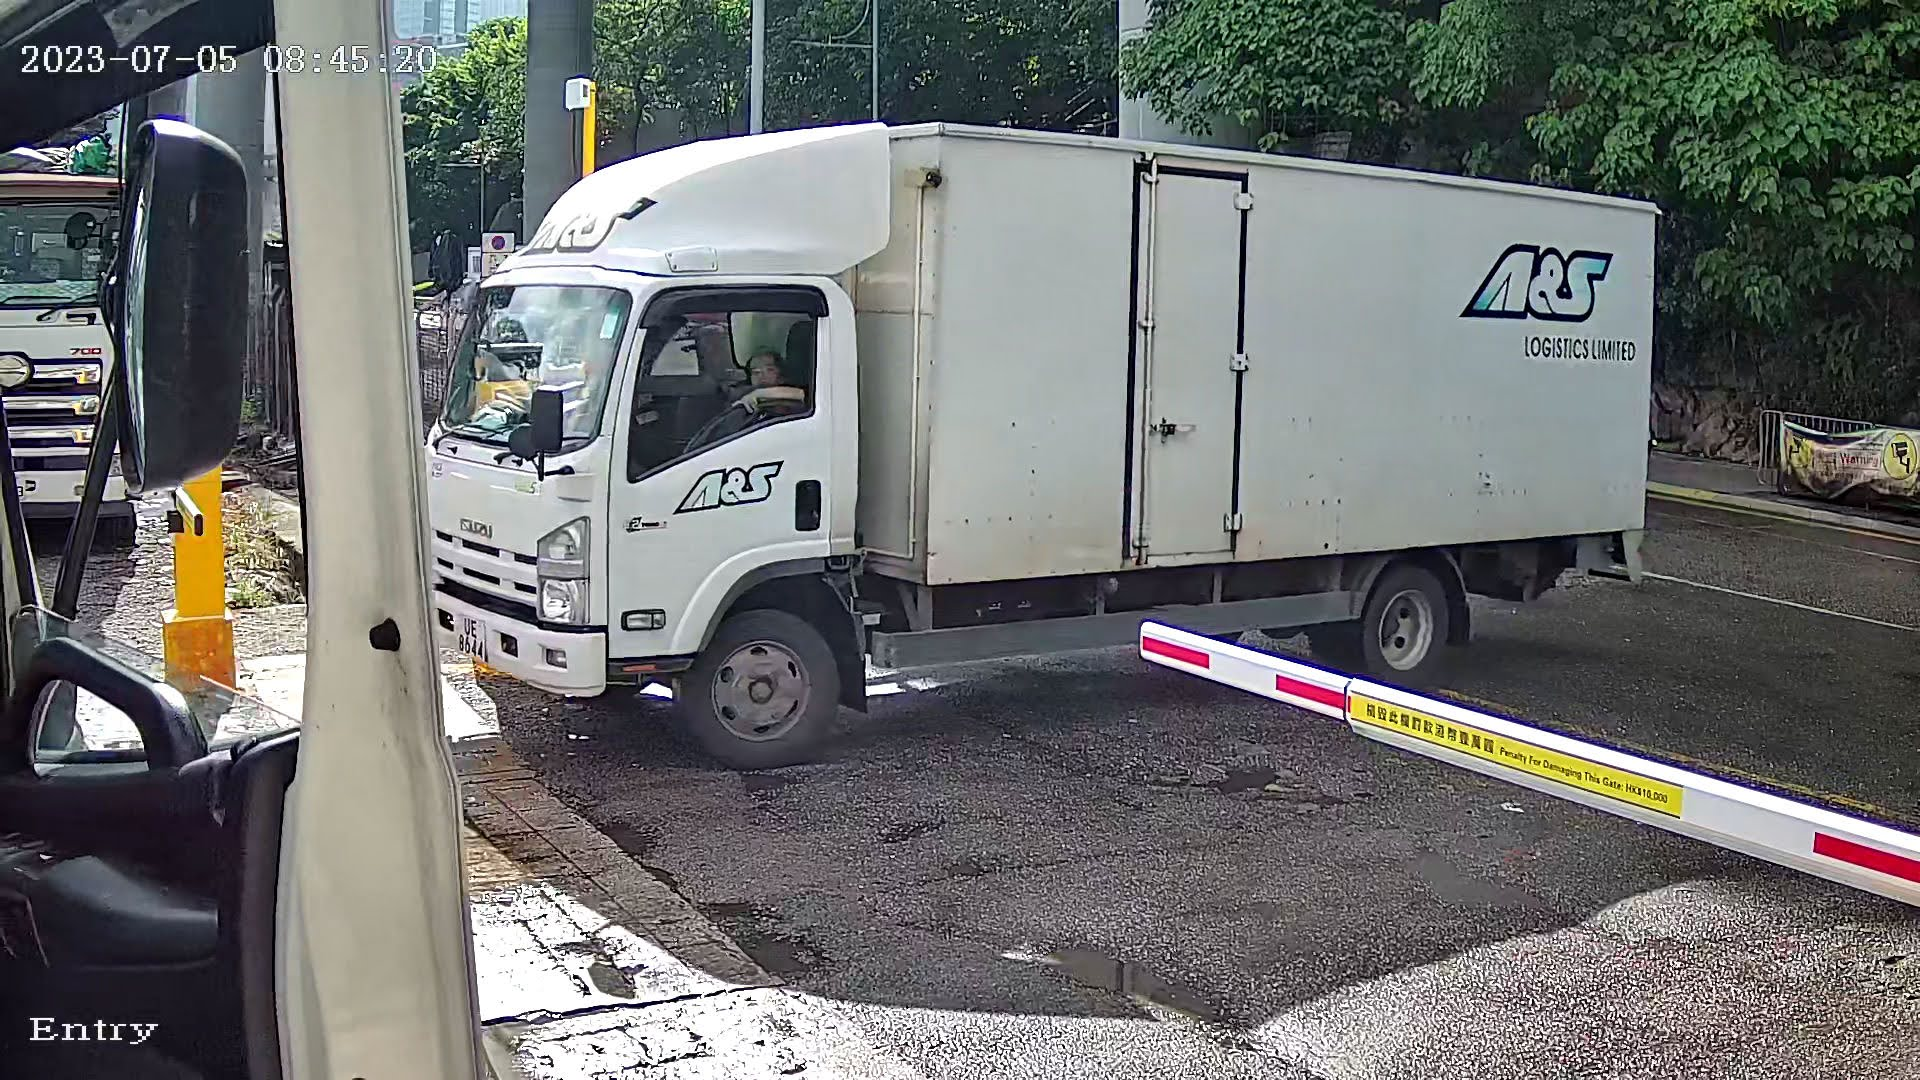truck: (375, 76, 1706, 783)
